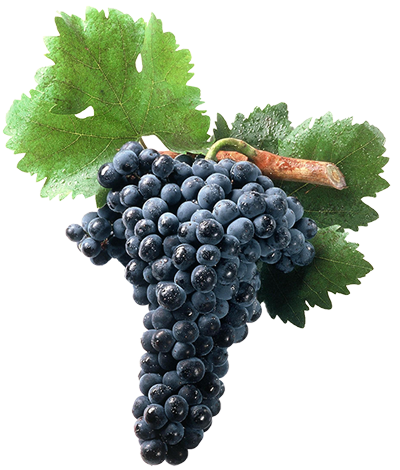Black grapes: (56, 122, 349, 468)
